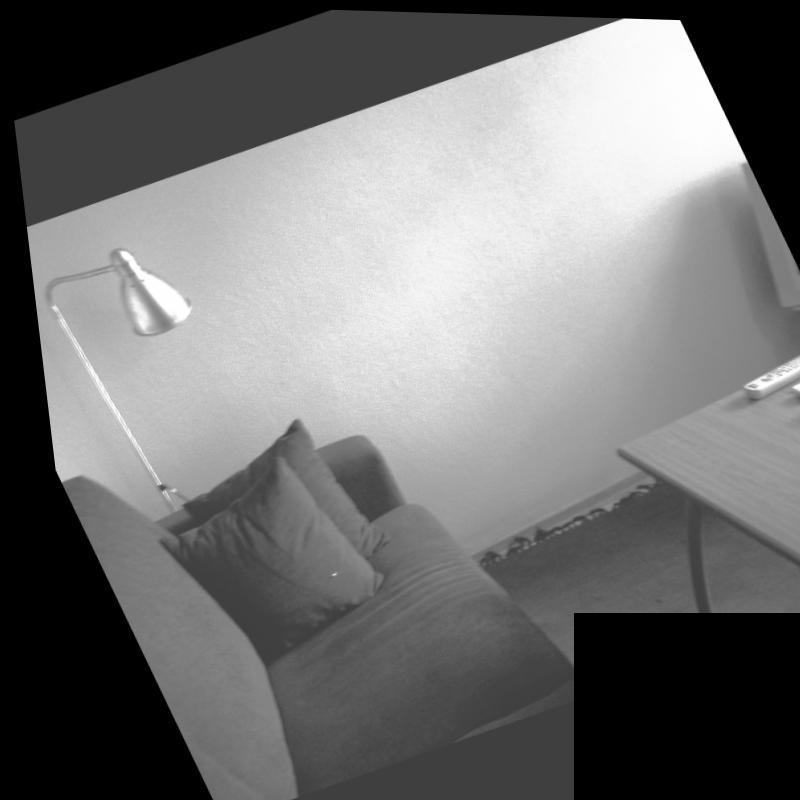pillow: (113, 399, 417, 671), (129, 429, 405, 679)
